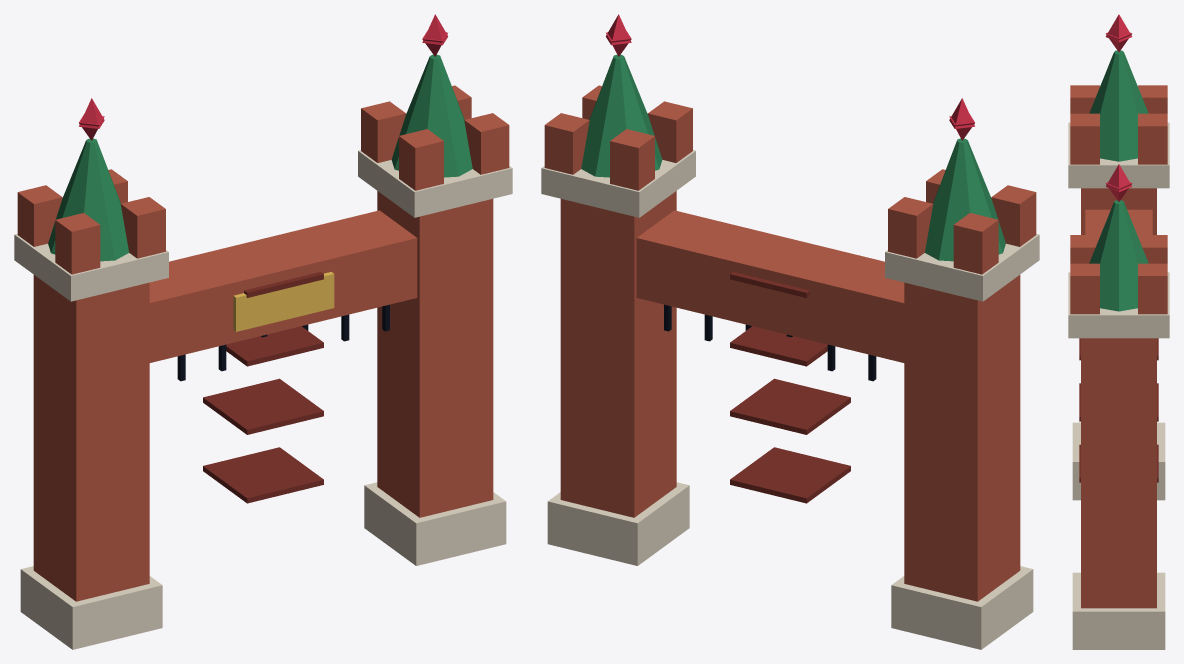
The model's file is bld_garden_gate.glb.
3 renders of one model, left to right at view 1: azimuth 30°, elevation 25°; view 2: azimuth 150°, elevation 25°; view 3: azimuth 270°, elevation 25°, orthographic. The views are drawn at different scales.
Visible parts, largest first — view 1: bld_garden_gate; view 2: bld_garden_gate; view 3: bld_garden_gate.
Boxes of the visible parts, x1=… form: bld_garden_gate: x1=14, y1=14, x2=512, y2=649; bld_garden_gate: x1=541, y1=14, x2=1039, y2=649; bld_garden_gate: x1=1068, y1=14, x2=1169, y2=649.
Bounding box in the file's own units: 5.4 × 6.1 × 1.2.
1 material, 1 textured.
